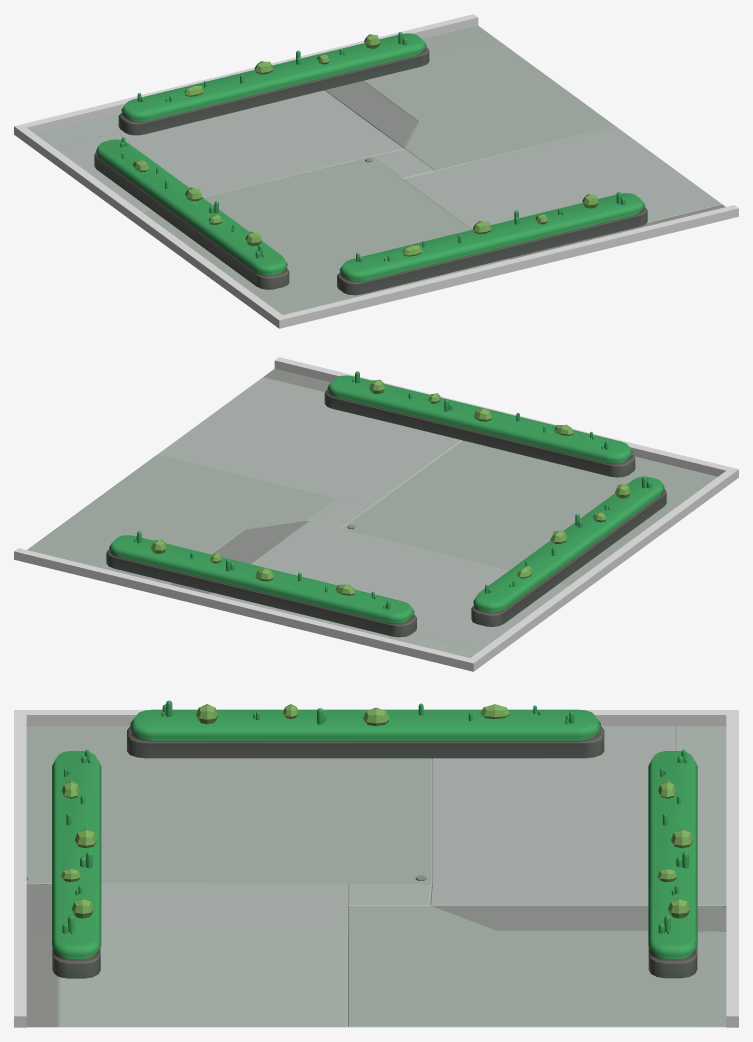
3 renders of one model, top to bottom at view 1: azimuth 30°, elevation 25°; view 2: azimuth 150°, elevation 25°; view 3: azimuth 270°, elevation 25°, orthographic. The views are drawn at different scales.
Parts seen in each view (by area): view 1: Scifi_Panel_04_Plaza014_group4.018_Scifi_Panel_04_Plaza014_g, Cube.650_Cube.770, TreePatch_Plaza014_group3.005_TreePatch_Plaza014_group3.043, TreePatch_Plaza014_group3.004_TreePatch_Plaza014_group3.042, TreePatch_Plaza014_group3.000_TreePatch_Plaza014_group3.038; view 2: Scifi_Panel_04_Plaza014_group4.018_Scifi_Panel_04_Plaza014_g, Cube.650_Cube.770, TreePatch_Plaza014_group3.004_TreePatch_Plaza014_group3.042, TreePatch_Plaza014_group3.005_TreePatch_Plaza014_group3.043, TreePatch_Plaza014_group3.000_TreePatch_Plaza014_group3.038; view 3: Scifi_Panel_04_Plaza014_group4.018_Scifi_Panel_04_Plaza014_g, TreePatch_Plaza014_group3.000_TreePatch_Plaza014_group3.038, Cube.650_Cube.770, TreePatch_Plaza014_group3.004_TreePatch_Plaza014_group3.042, TreePatch_Plaza014_group3.005_TreePatch_Plaza014_group3.043.
Part boxes in pixels (<box>): Scifi_Panel_04_Plaza014_group4.018_Scifi_Panel_04_Plaza014_g: <box>35,25,725,314</box>; Cube.650_Cube.770: <box>14,14,738,328</box>; TreePatch_Plaza014_group3.005_TreePatch_Plaza014_group3.043: <box>337,193,647,295</box>; TreePatch_Plaza014_group3.004_TreePatch_Plaza014_group3.042: <box>118,33,429,135</box>; TreePatch_Plaza014_group3.000_TreePatch_Plaza014_group3.038: <box>94,139,289,289</box>; Scifi_Panel_04_Plaza014_group4.018_Scifi_Panel_04_Plaza014_g: <box>27,368,717,657</box>; Cube.650_Cube.770: <box>14,357,738,671</box>; TreePatch_Plaza014_group3.004_TreePatch_Plaza014_group3.042: <box>106,535,416,637</box>; TreePatch_Plaza014_group3.005_TreePatch_Plaza014_group3.043: <box>324,375,635,477</box>; TreePatch_Plaza014_group3.000_TreePatch_Plaza014_group3.038: <box>471,476,666,626</box>; Scifi_Panel_04_Plaza014_group4.018_Scifi_Panel_04_Plaza014_g: <box>26,724,726,1027</box>; TreePatch_Plaza014_group3.000_TreePatch_Plaza014_group3.038: <box>127,709,604,758</box>; Cube.650_Cube.770: <box>14,710,738,1027</box>; TreePatch_Plaza014_group3.004_TreePatch_Plaza014_group3.042: <box>648,751,697,978</box>; TreePatch_Plaza014_group3.005_TreePatch_Plaza014_group3.043: <box>52,751,101,978</box>.
Bounding box in the file's own units: 10 × 0.7155 × 10.
